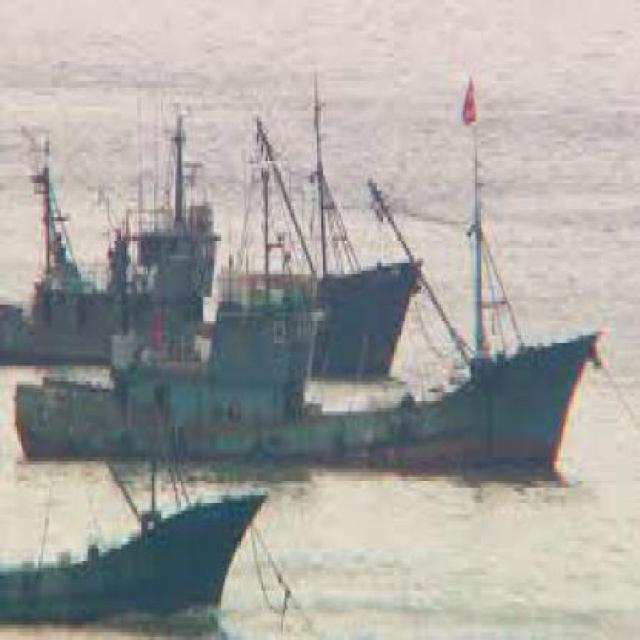fish-b: (23, 245, 607, 523), (2, 473, 283, 638)
